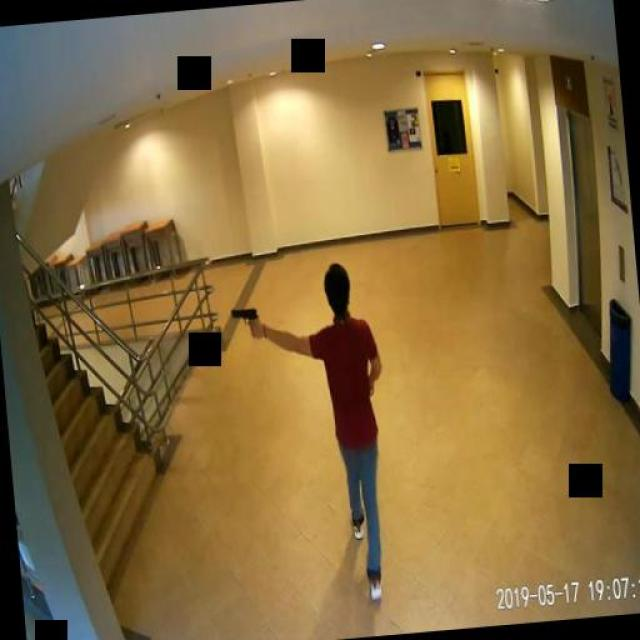gun: (229, 304, 260, 344)
